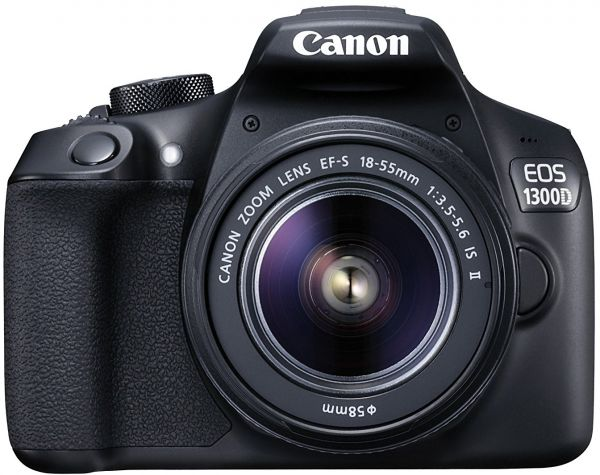kamera: (1, 1, 600, 475)
